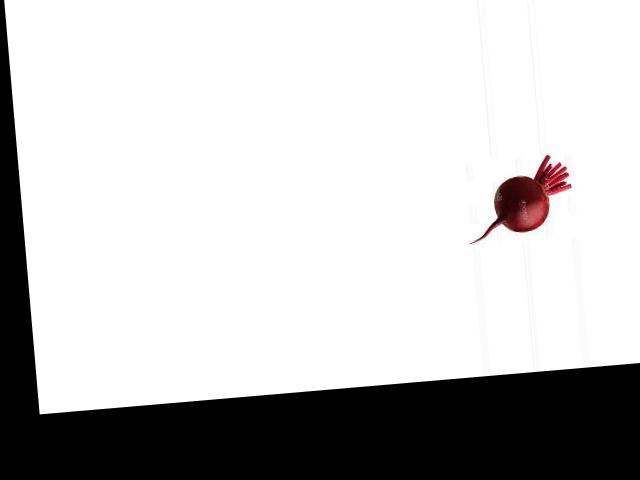beet: (464, 152, 575, 244)
